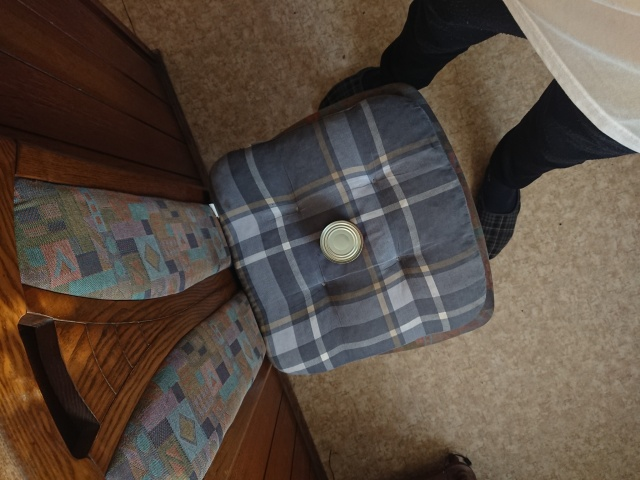Podravka Luncheon Meat 150g: (318, 219, 365, 266)
